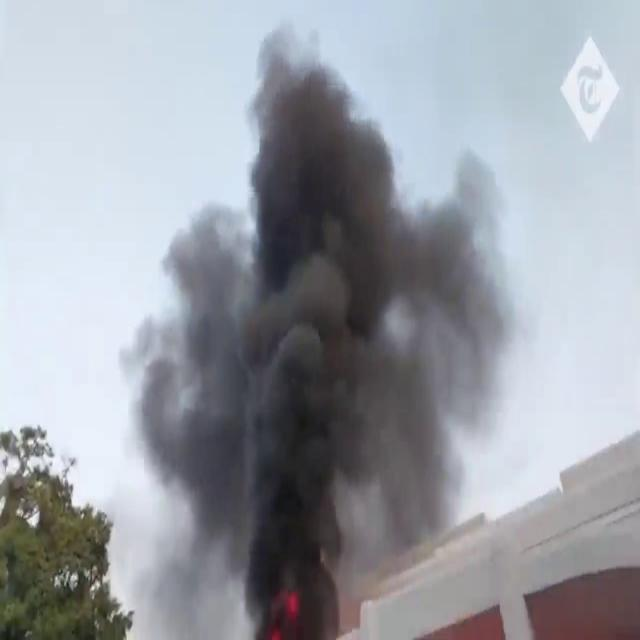Smoke: (128, 18, 512, 626)
